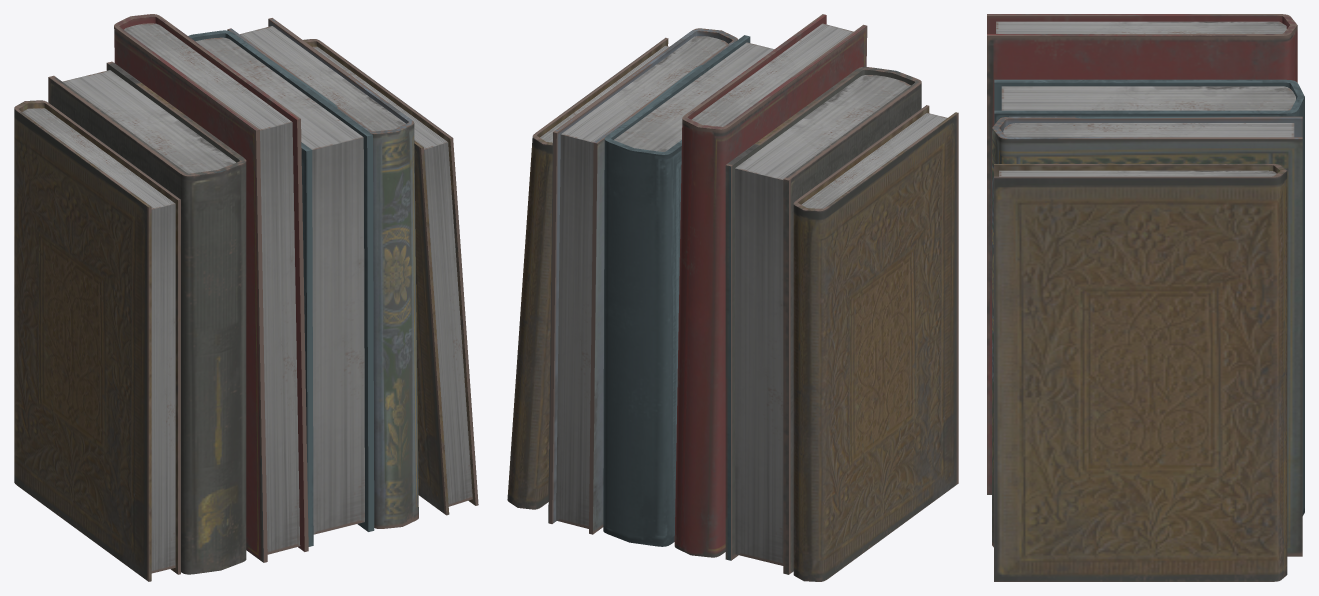
The model's file is SM_BookSet_A1.fbx.
3 views of the same model, side by side, from view 1: azimuth 30°, elevation 25°; view 2: azimuth 150°, elevation 25°; view 3: azimuth 270°, elevation 25° (orthographic). The views are drawn at different scales.
Visible parts, largest first — view 1: SM_BookSet_A1; view 2: SM_BookSet_A1; view 3: SM_BookSet_A1.
Boxes of the visible parts, x1=… form: SM_BookSet_A1: x1=14, y1=14, x2=478, y2=581; SM_BookSet_A1: x1=507, y1=14, x2=958, y2=581; SM_BookSet_A1: x1=987, y1=14, x2=1304, y2=581.
Bounding box in the file's own units: 19.83 × 16.02 × 25.37.
1 material, 1 textured.
